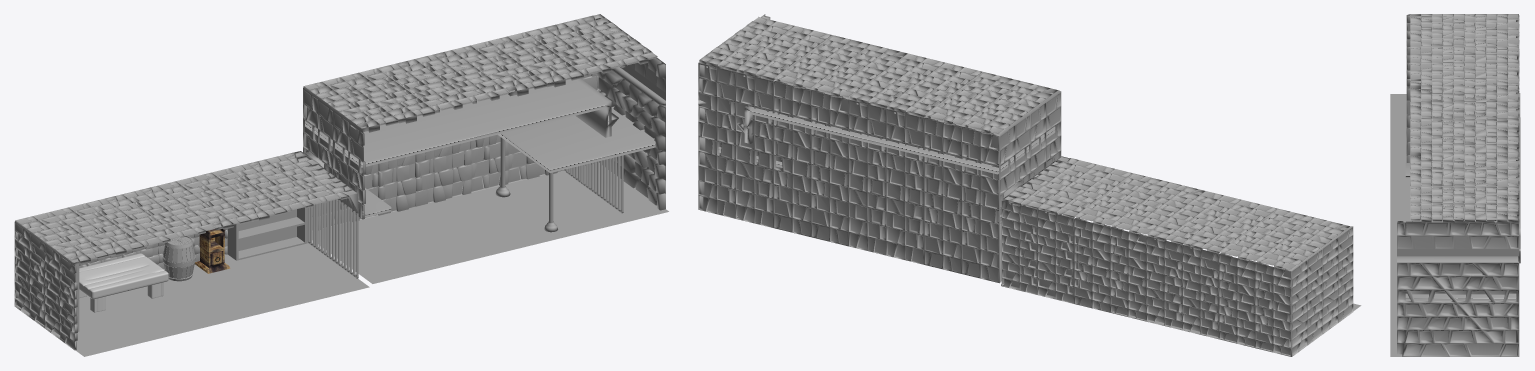
Rendered from pruebaunity.fbx.
The picture shows the model from 3 angles, left to right: view 1: azimuth 30°, elevation 25°; view 2: azimuth 150°, elevation 25°; view 3: azimuth 270°, elevation 25°; orthographic projection. The views are drawn at different scales.
Parts seen in each view (by area): view 1: ESCENARIO, table, estanteria1, pCylinder3, Armario2; view 2: ESCENARIO, estanteria1; view 3: ESCENARIO.
Part boxes in pixels (x1,y1,x2,y2): ESCENARIO: (14,14,668,356); table: (79,253,168,312); estanteria1: (227,207,307,260); pCylinder3: (162,236,195,281); Armario2: (194,229,230,273); ESCENARIO: (698,14,1361,356); estanteria1: (1006,226,1078,296); ESCENARIO: (1390,14,1520,356).
Bounding box in the file's own units: 108 × 26.42 × 22.36.
